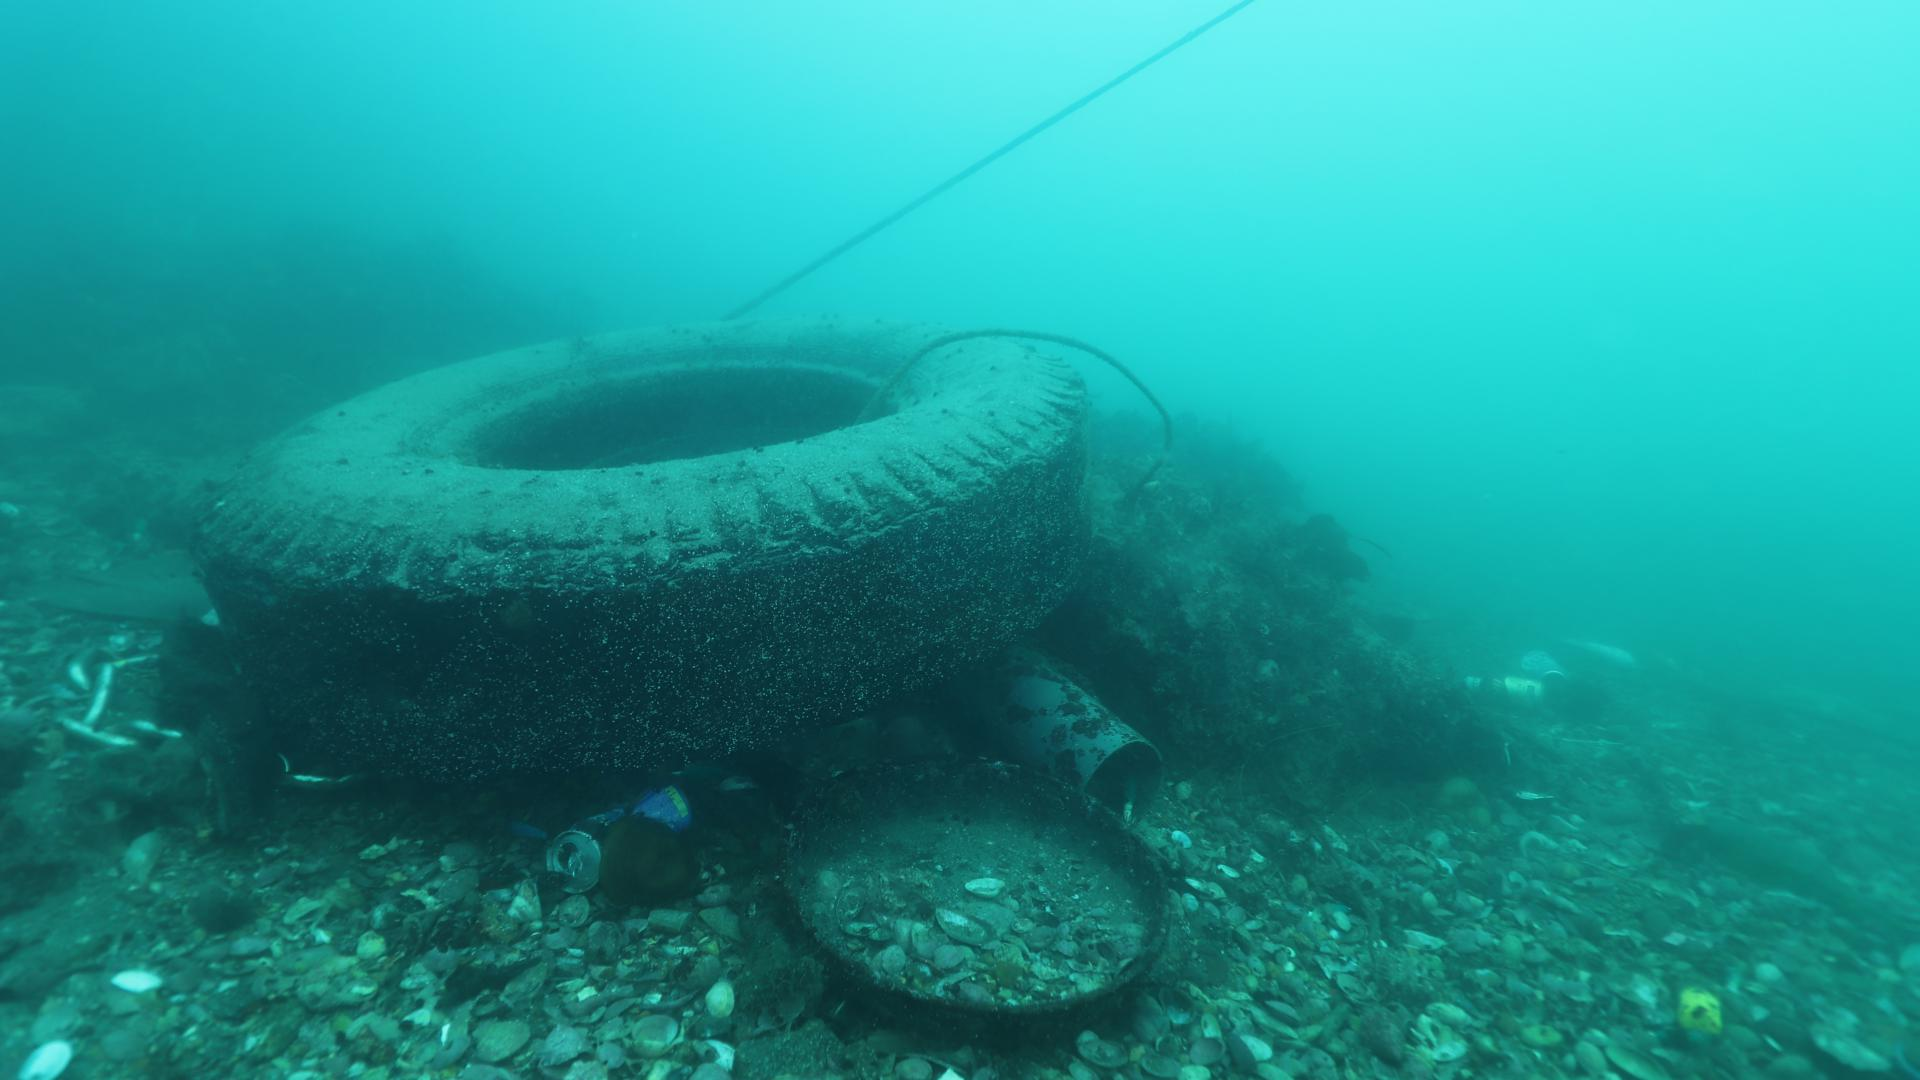rope: (853, 326, 1174, 497)
tire: (183, 313, 1089, 785)
